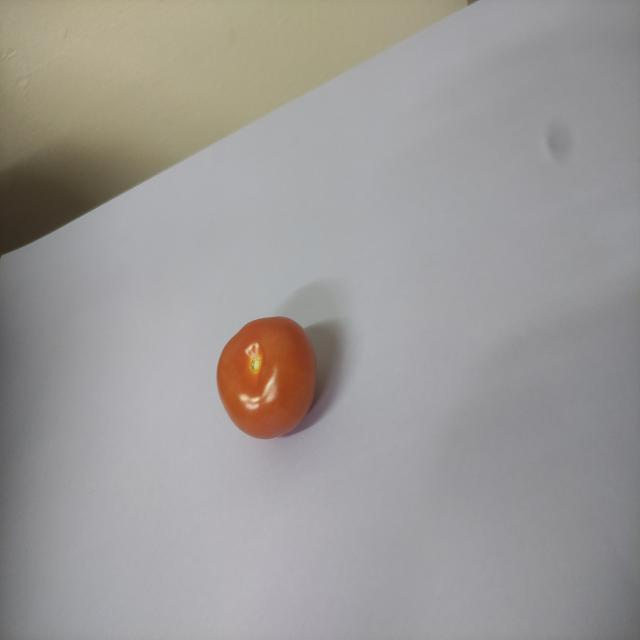sari: (206, 308, 339, 452)
